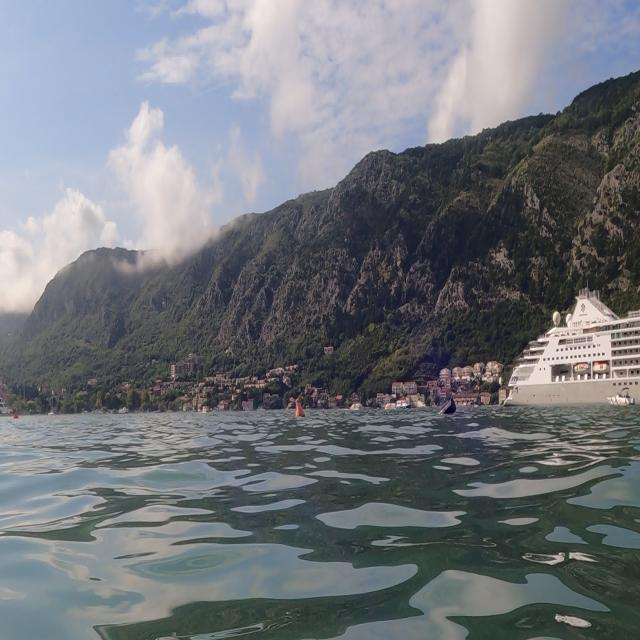boat: (499, 281, 638, 410)
buoy: (433, 398, 459, 422), (291, 399, 311, 422)
